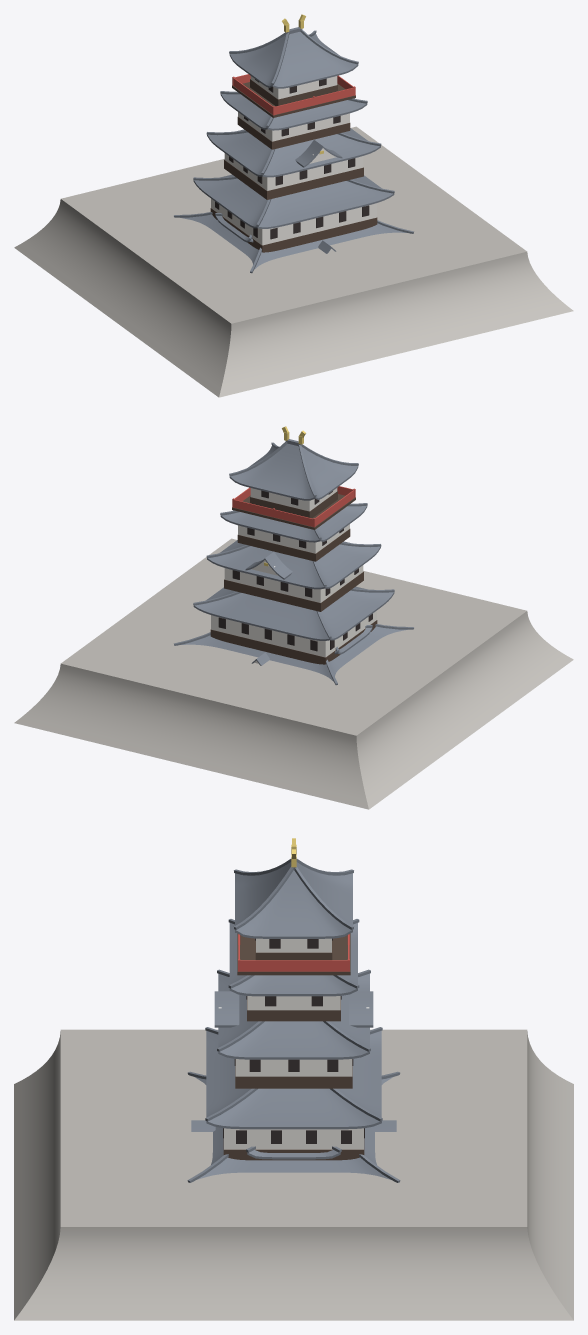
The model's file is city.glb.
3 renders of one model, top to bottom at view 1: azimuth 30°, elevation 25°; view 2: azimuth 150°, elevation 25°; view 3: azimuth 270°, elevation 25°, orthographic. The views are drawn at different scales.
Visible parts, largest first — view 1: ishigaki_honmaru, castle_keep, temple_hall; view 2: ishigaki_honmaru, castle_keep, temple_hall; view 3: ishigaki_honmaru, castle_keep, temple_hall, gatehouse.
Part boxes in pixels (x1,y1,x2,y2): ishigaki_honmaru: (14,126,573,397); castle_keep: (193,14,394,253); temple_hall: (174,212,413,273); ishigaki_honmaru: (14,538,573,809); castle_keep: (193,426,394,665); temple_hall: (174,624,413,685); ishigaki_honmaru: (14,1029,573,1320); castle_keep: (191,838,396,1160); temple_hall: (187,1071,400,1182); gatehouse: (246,1146,341,1159).
Size of the model in its own units: 48 by 34.27 by 48.
